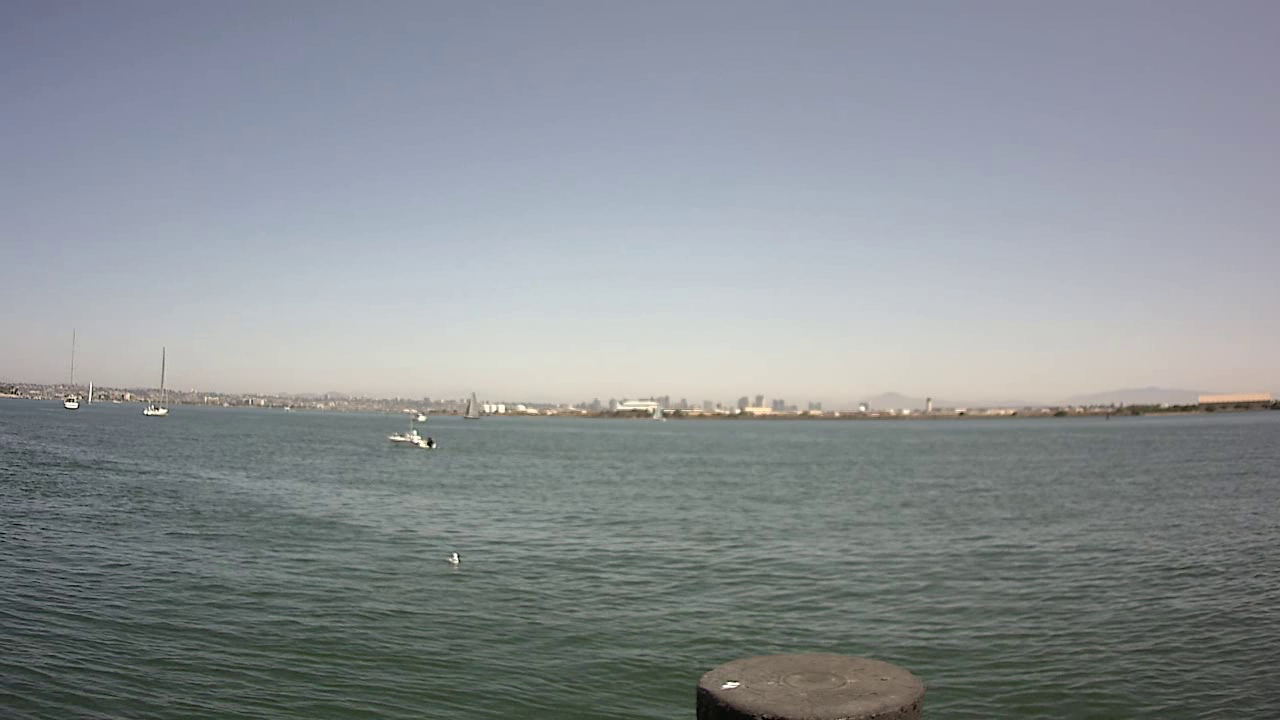target: (383, 414, 444, 458)
